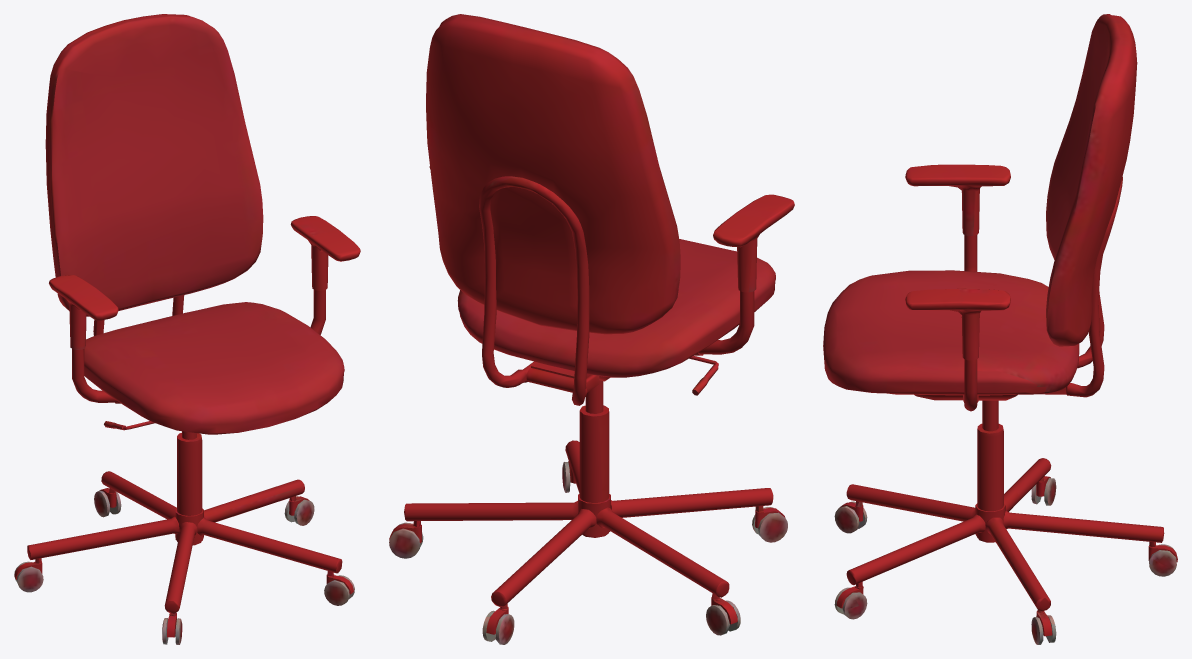
File: Smorkull60503437-scene-512.glb
The picture shows the model from 3 angles, left to right: view 1: azimuth 30°, elevation 25°; view 2: azimuth 150°, elevation 25°; view 3: azimuth 270°, elevation 25°; orthographic projection. The views are drawn at different scales.
Visible parts, largest first — view 1: Mesh_0; view 2: Mesh_0; view 3: Mesh_0.
Boxes of the visible parts, x1,y1,x2,y2 form: Mesh_0: (14, 14, 360, 644); Mesh_0: (389, 14, 794, 644); Mesh_0: (823, 14, 1177, 644).
Size of the model in its own units: 0.6603 by 1.08 by 0.6489.
Materials: 1 (1 with a texture image).
